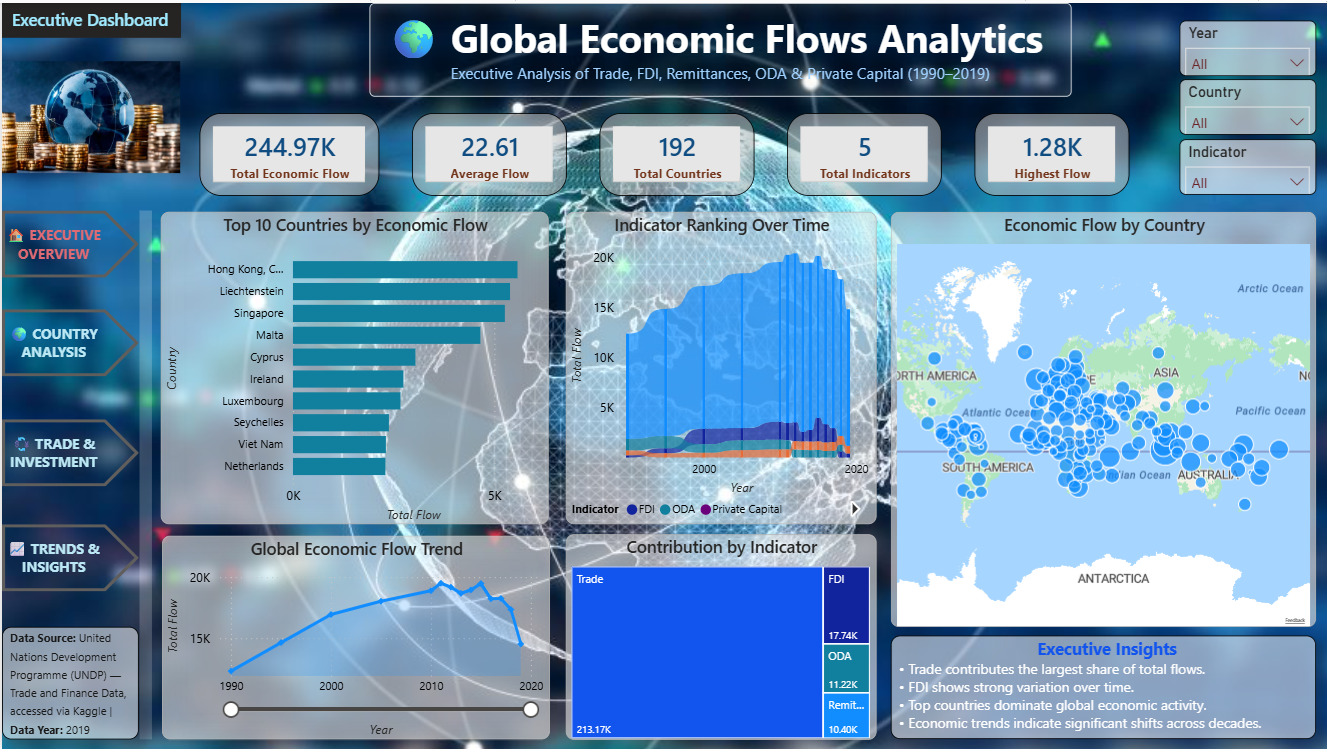

This screenshot's page, from the dashboard's own definition file:
{"tool":"powerbi","page":{"name":"01. Executive Overview","canvas":[1280,720],"ordinal":0},"visuals":[{"type":"textbox","box":[355,0,677.6,90.7],"z":0},{"type":"slicer","fields":{"Values":["Dim_Date.Year"]},"box":[1137,17.4,131.6,53.9],"z":0,"group":"g2"},{"type":"textbox","box":[0,0,172.8,33.3],"z":1000},{"type":"slicer","fields":{"Values":["Dim_Country.Country"]},"box":[1137,74.5,131.6,53.9],"z":1000,"group":"g2"},{"type":"group","id":"g1","title":"Group 1","box":[190.6,106.2,897.6,80.8],"z":2000},{"type":"cardVisual","fields":{"Data":["My Measures.Total Flow"]},"box":[190.6,106.3,173.6,80.3],"z":2000,"group":"g1"},{"type":"slicer","fields":{"Values":["Dim_Indicator.Indicator"]},"box":[1137,131.6,131.6,53.9],"z":2000,"group":"g2"},{"type":"cardVisual","fields":{"Data":["My Measures.Average Flow"]},"box":[395.8,106.2,149.7,80.3],"z":3000,"group":"g1"},{"type":"lineChart","title":"Global Economic Flow Trend","fields":{"Category":["Dim_Date.Year"],"Y":["My Measures.Total Flow"]},"box":[154.2,514.3,374.4,196.9],"z":3000},{"type":"cardVisual","fields":{"Data":["My Measures.Total Countries"]},"box":[576.7,106.2,149.7,80.3],"z":4000,"group":"g1"},{"type":"azureMap","title":"Economic Flow by Country","fields":{"Category":["Dim_Country.Country"],"Size":["My Measures.Total Flow"]},"box":[857.9,201.4,410.7,401.2],"z":4000},{"type":"cardVisual","fields":{"Data":["My Measures.Total Indicators"]},"box":[757.6,106.2,149.7,80.3],"z":5000,"group":"g1"},{"type":"treemap","title":"Contribution by Indicator","fields":{"Group":["Dim_Indicator.Indicator"],"Values":["My Measures.Total Flow"]},"box":[543.9,512.2,299.7,198.2],"z":5000},{"type":"cardVisual","fields":{"Data":["My Measures.Highest Flow"]},"box":[938.4,106.2,149.7,80.3],"z":6000,"group":"g1"},{"type":"clusteredBarChart","title":"Top 10 Countries by Economic Flow","fields":{"Category":["Dim_Country.Country"],"Y":["My Measures.Total Flow"]},"box":[153.8,201.4,374.2,301.3],"z":6000},{"type":"ribbonChart","title":"Indicator Ranking Over Time","fields":{"Category":["Dim_Date.Year"],"Series":["Dim_Indicator.Indicator"],"Y":["My Measures.Total Flow"]},"box":[543.9,201.4,299.7,301.3],"z":7000},{"type":"textbox","box":[857.9,610.5,410.7,99.9],"z":8000},{"type":"textbox","box":[132.7,200.3,12.1,510.3],"z":9000},{"type":"group","id":"g2","title":"Group 2","box":[1137,17.4,131.6,168.1],"z":10000},{"type":"actionButton","box":[0,200.8,132.1,64.8],"z":11000},{"type":"actionButton","box":[0,295.4,132.1,64.8],"z":12000},{"type":"actionButton","box":[0,401.6,132.1,64.8],"z":13000},{"type":"actionButton","box":[0,502.7,132.1,64.8],"z":14000},{"type":"textbox","box":[0,602.4,132.1,108.8],"z":15000},{"type":"image","box":[0,33.7,172.3,152.9],"z":16000}]}

Visuals, with their boxes in screenshot pixels (x1, y1, x2, y2), scaled from the page's 1280x720 canvas onto the 1327x749 screenshot:
textbox: <region>368, 0, 1071, 94</region>
slicer - Dim_Date.Year: <region>1179, 18, 1315, 74</region>
textbox: <region>0, 0, 179, 35</region>
slicer - Dim_Country.Country: <region>1179, 78, 1315, 134</region>
"Group 1" group: <region>198, 110, 1128, 195</region>
cardVisual - My Measures.Total Flow: <region>198, 111, 378, 194</region>
slicer - Dim_Indicator.Indicator: <region>1179, 137, 1315, 193</region>
cardVisual - My Measures.Average Flow: <region>410, 110, 566, 194</region>
"Global Economic Flow Trend" lineChart: <region>160, 535, 548, 740</region>
cardVisual - My Measures.Total Countries: <region>598, 110, 753, 194</region>
"Economic Flow by Country" azureMap: <region>889, 210, 1315, 627</region>
cardVisual - My Measures.Total Indicators: <region>785, 110, 941, 194</region>
"Contribution by Indicator" treemap: <region>564, 533, 875, 739</region>
cardVisual - My Measures.Highest Flow: <region>973, 110, 1128, 194</region>
"Top 10 Countries by Economic Flow" clusteredBarChart: <region>159, 210, 547, 523</region>
"Indicator Ranking Over Time" ribbonChart: <region>564, 210, 875, 523</region>
textbox: <region>889, 635, 1315, 739</region>
textbox: <region>138, 208, 150, 739</region>
"Group 2" group: <region>1179, 18, 1315, 193</region>
actionButton: <region>0, 209, 137, 276</region>
actionButton: <region>0, 307, 137, 375</region>
actionButton: <region>0, 418, 137, 485</region>
actionButton: <region>0, 523, 137, 590</region>
textbox: <region>0, 627, 137, 740</region>
image: <region>0, 35, 179, 194</region>
